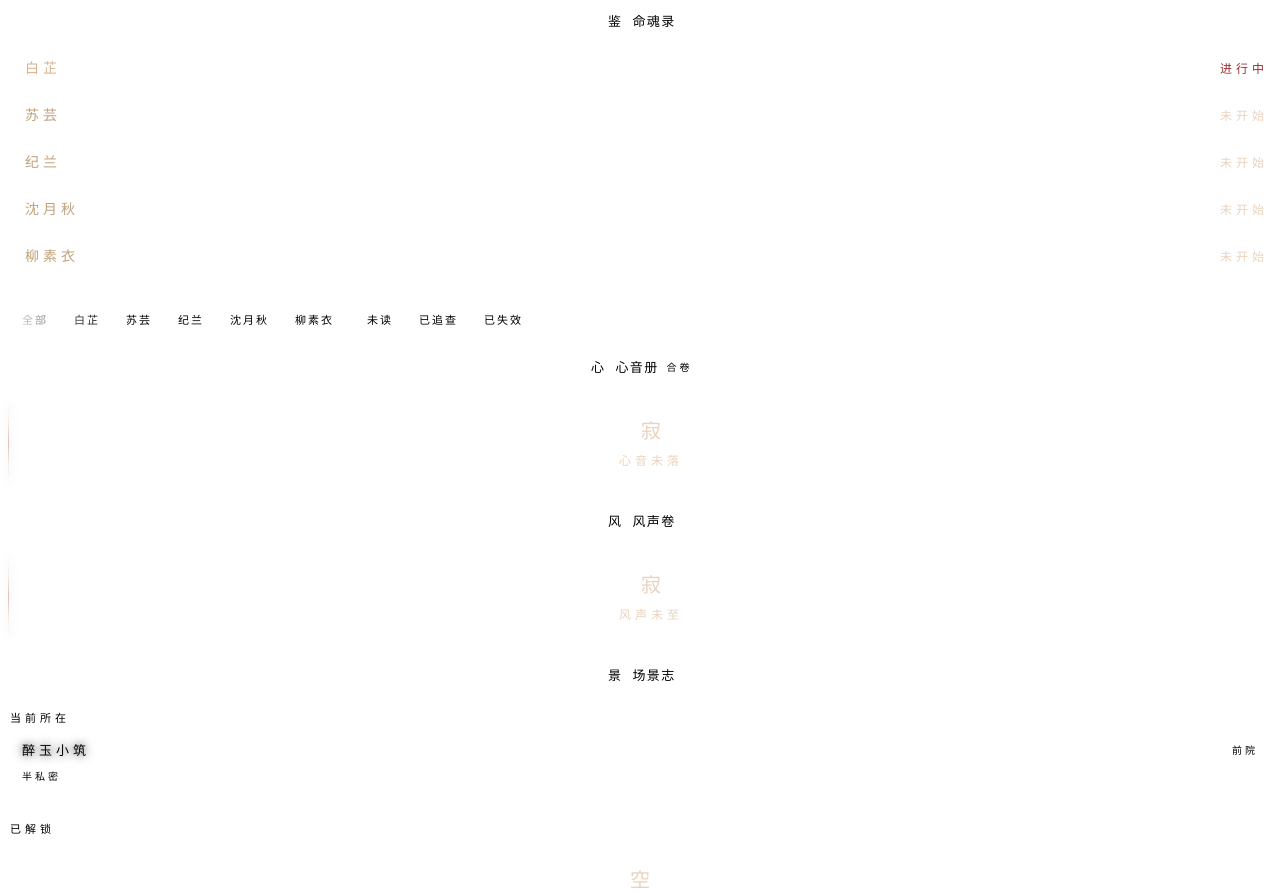
Scenario: GalleryPage › 点击NPC显示详情面板
Click the element with class "npc-entry" showing "白芷 进行中" at (43, 68), box [25,60,1268,76]
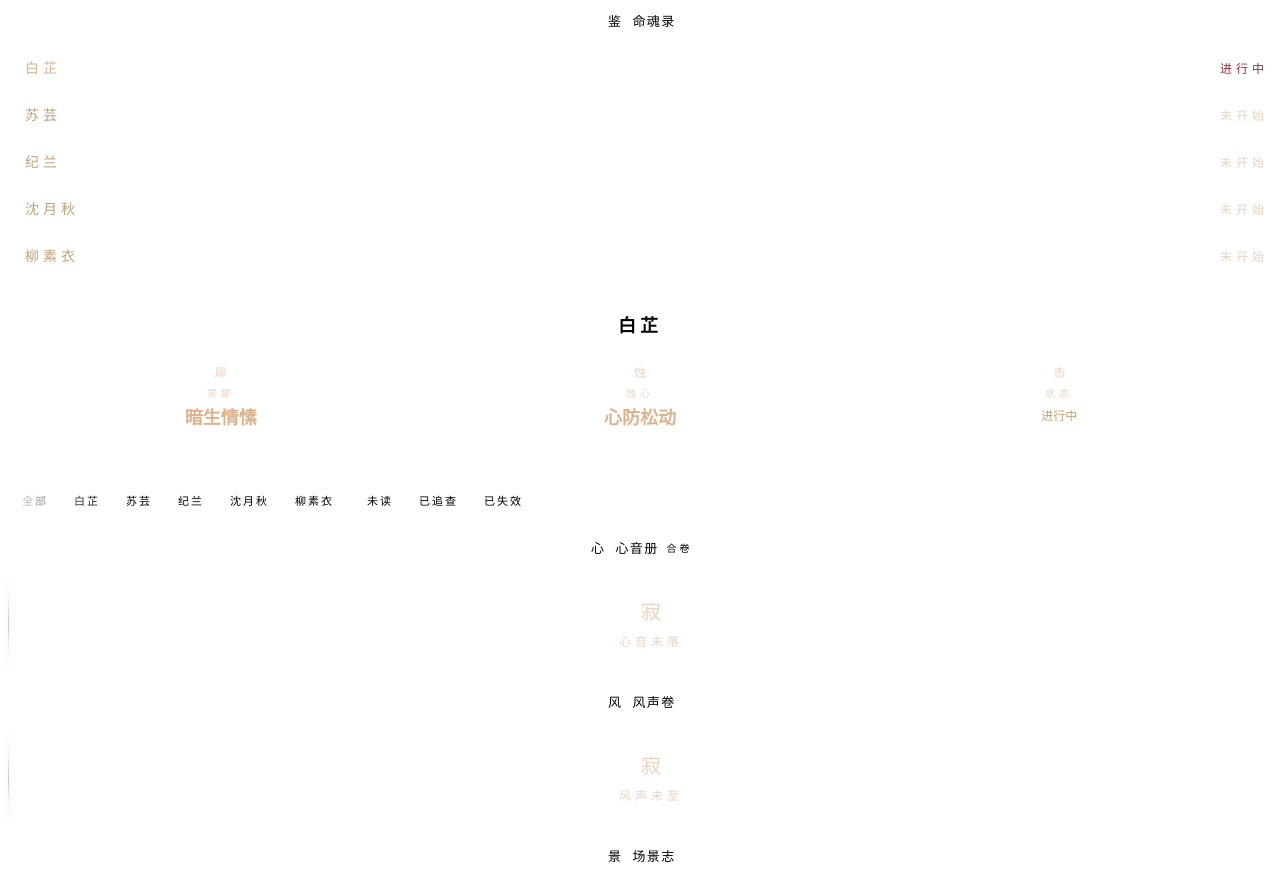
expect the element with class "npc-detail-panel" is shown: met, box [185,316,1077,428]
expect the 2nd text "白芷" is shown: met, box [618,313,662,340]
